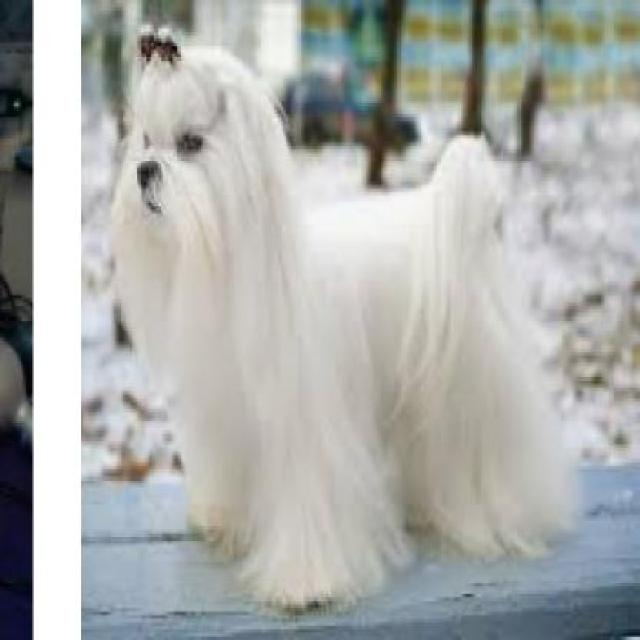Dog: (115, 23, 588, 626)
